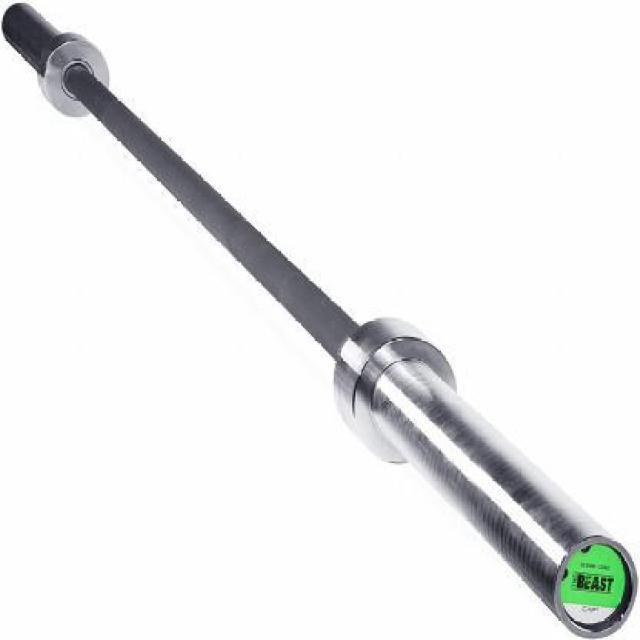Barbell: (536, 516, 638, 638)
